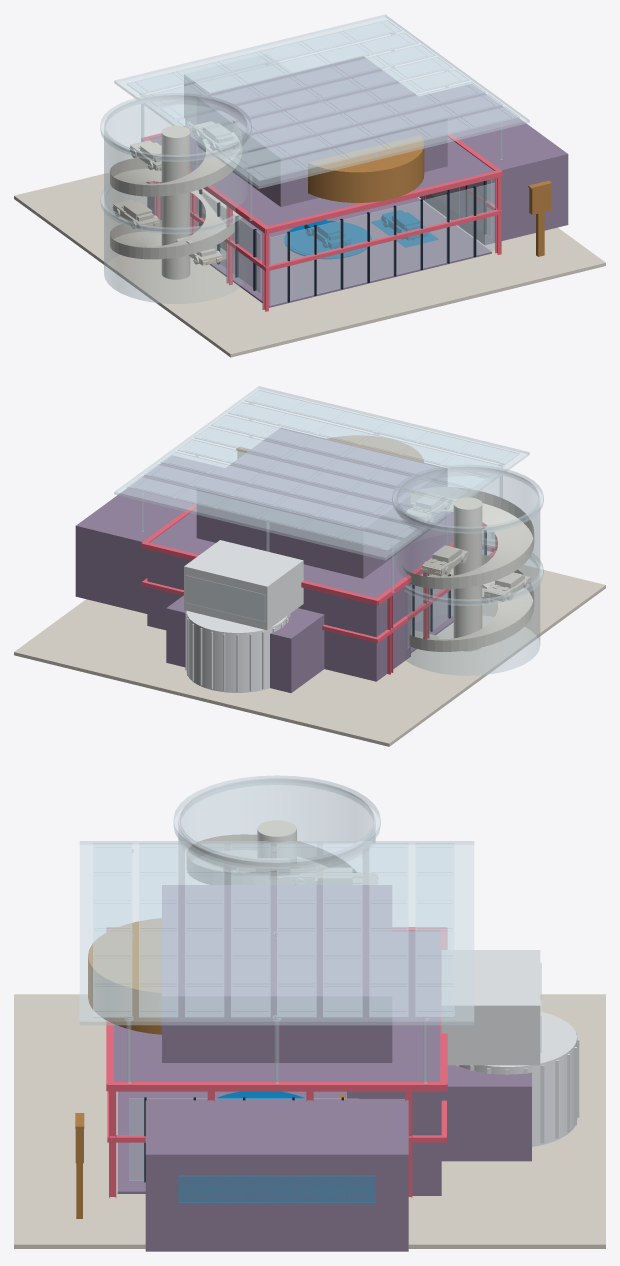
File: hq_14_marketing_l5.glb
3 renders of one model, top to bottom at view 1: azimuth 30°, elevation 25°; view 2: azimuth 150°, elevation 25°; view 3: azimuth 270°, elevation 25°, orthographic. The views are drawn at different scales.
Parts seen in each view (by area): view 1: GEO_Marketing_Photovoltaic_Solar_Canopy, GEO_Marketing_Glass_Rotunda_Cylinder, GEO_Marketing_Foundation_Plinth, GEO_Marketing_Auditorium_Shell, GEO_Marketing_Showroom_Glass_Curtain, GEO_Marketing_Showroom_Brick_Halls, GEO_Marketing_Spiral_Display_Ramp, GEO_Marketing_Heritage_Vault_Brick, GEO_Marketing_Structural_Columns, GEO_Marketing_Auditorium_Seating_Stage, GEO_Marketing_Configurator_Studio_Shell, GEO_Marketing_Showroom_Glass_Mullions (+3 smaller); view 2: GEO_Marketing_Photovoltaic_Solar_Canopy, GEO_Marketing_Glass_Rotunda_Cylinder, GEO_Marketing_Foundation_Plinth, GEO_Marketing_Auditorium_Shell, GEO_Marketing_Showroom_Brick_Halls, GEO_Marketing_Spiral_Display_Ramp, GEO_Marketing_Heritage_Vault_Brick, GEO_Marketing_Configurator_Studio_Shell, GEO_Marketing_HoloCinema_Pod, GEO_Marketing_Structural_Columns, GEO_Marketing_Configurator_Curtain_Glass, GEO_Marketing_Showroom_Glass_Curtain (+1 smaller); view 3: GEO_Marketing_Photovoltaic_Solar_Canopy, GEO_Marketing_Foundation_Plinth, GEO_Marketing_Auditorium_Shell, GEO_Marketing_Heritage_Vault_Brick, GEO_Marketing_Showroom_Brick_Halls, GEO_Marketing_Glass_Rotunda_Cylinder, GEO_Marketing_Configurator_Studio_Shell, GEO_Marketing_Spiral_Display_Ramp, GEO_Marketing_Auditorium_Seating_Stage, GEO_Marketing_Structural_Columns, GEO_Marketing_HoloCinema_Pod, GEO_Marketing_Vault_Ribbon_Glass (+2 smaller).
Boxes of the visible parts, box(x1,y1,x2,y2) form: GEO_Marketing_Photovoltaic_Solar_Canopy: box(114, 14, 529, 220); GEO_Marketing_Glass_Rotunda_Cylinder: box(100, 93, 251, 304); GEO_Marketing_Foundation_Plinth: box(14, 172, 605, 357); GEO_Marketing_Auditorium_Shell: box(197, 56, 447, 206); GEO_Marketing_Showroom_Glass_Curtain: box(196, 179, 495, 305); GEO_Marketing_Showroom_Brick_Halls: box(147, 126, 493, 307); GEO_Marketing_Spiral_Display_Ramp: box(110, 121, 241, 279); GEO_Marketing_Heritage_Vault_Brick: box(419, 84, 568, 244); GEO_Marketing_Structural_Columns: box(141, 126, 502, 311); GEO_Marketing_Auditorium_Seating_Stage: box(308, 135, 424, 202); GEO_Marketing_Configurator_Studio_Shell: box(184, 54, 292, 124); GEO_Marketing_Showroom_Glass_Mullions: box(199, 180, 486, 302); GEO_Marketing_Photovoltaic_Solar_Canopy: box(114, 386, 529, 592); GEO_Marketing_Glass_Rotunda_Cylinder: box(392, 464, 543, 675); GEO_Marketing_Foundation_Plinth: box(14, 565, 605, 746); GEO_Marketing_Auditorium_Shell: box(196, 428, 447, 578); GEO_Marketing_Showroom_Brick_Halls: box(147, 508, 453, 692); GEO_Marketing_Spiral_Display_Ramp: box(402, 487, 534, 651); GEO_Marketing_Heritage_Vault_Brick: box(75, 455, 224, 613); GEO_Marketing_Configurator_Studio_Shell: box(184, 540, 303, 630); GEO_Marketing_HoloCinema_Pod: box(185, 611, 290, 692); GEO_Marketing_Structural_Columns: box(141, 503, 497, 674); GEO_Marketing_Configurator_Curtain_Glass: box(185, 575, 265, 621); GEO_Marketing_Showroom_Glass_Curtain: box(407, 532, 494, 648); GEO_Marketing_Photovoltaic_Solar_Canopy: box(79, 841, 474, 1083); GEO_Marketing_Foundation_Plinth: box(14, 994, 605, 1248); GEO_Marketing_Auditorium_Shell: box(162, 885, 392, 1062); GEO_Marketing_Heritage_Vault_Brick: box(145, 1099, 408, 1251); GEO_Marketing_Showroom_Brick_Halls: box(114, 931, 531, 1195); GEO_Marketing_Glass_Rotunda_Cylinder: box(173, 775, 380, 884); GEO_Marketing_Configurator_Studio_Shell: box(441, 950, 540, 1065); GEO_Marketing_Spiral_Display_Ramp: box(187, 820, 377, 884); GEO_Marketing_Auditorium_Seating_Stage: box(88, 918, 161, 1034); GEO_Marketing_Structural_Columns: box(106, 927, 447, 1198); GEO_Marketing_HoloCinema_Pod: box(456, 1012, 579, 1146); GEO_Marketing_Vault_Ribbon_Glass: box(178, 1175, 375, 1202).
Size of what is drawn, in the model's own units: 39.4 by 13.93 by 36.
